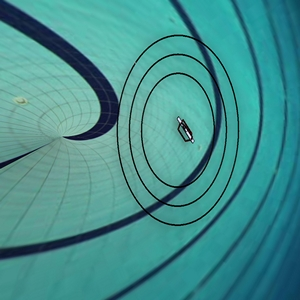circle: (108, 30, 244, 230)
submarine: (171, 112, 201, 154)
